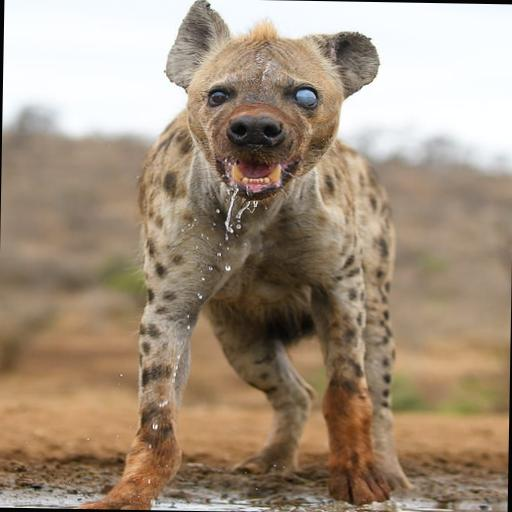hyenas: (77, 3, 409, 512)
